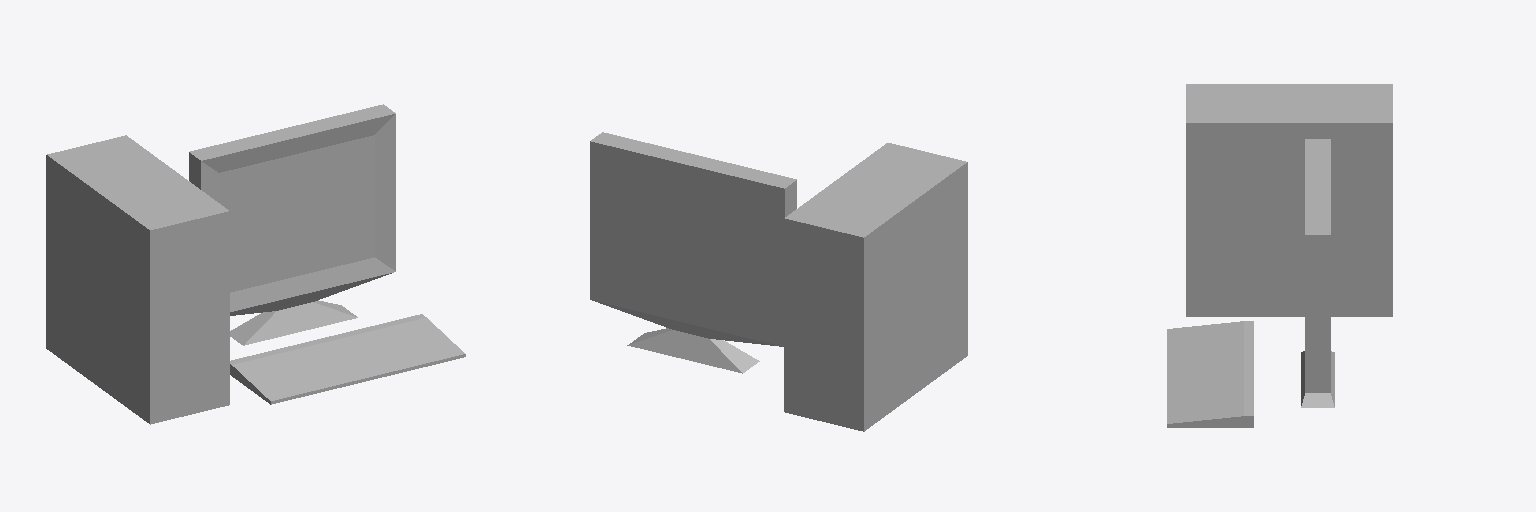
File: comp.obj
The picture shows the model from 3 angles: view 1: azimuth 30°, elevation 25°; view 2: azimuth 150°, elevation 25°; view 3: azimuth 270°, elevation 25°; orthographic projection.
Size of the model in its own units: 4.04 by 2.45 by 2.6.